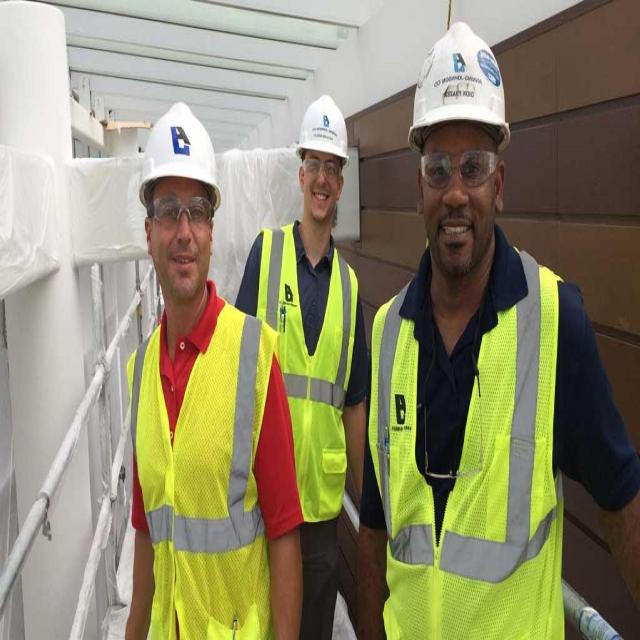Reflective-Jacket: (367, 252, 571, 640), (123, 300, 281, 640), (255, 225, 363, 523)
Safety-Helmet: (404, 16, 516, 150), (137, 92, 224, 202), (293, 83, 351, 165)
